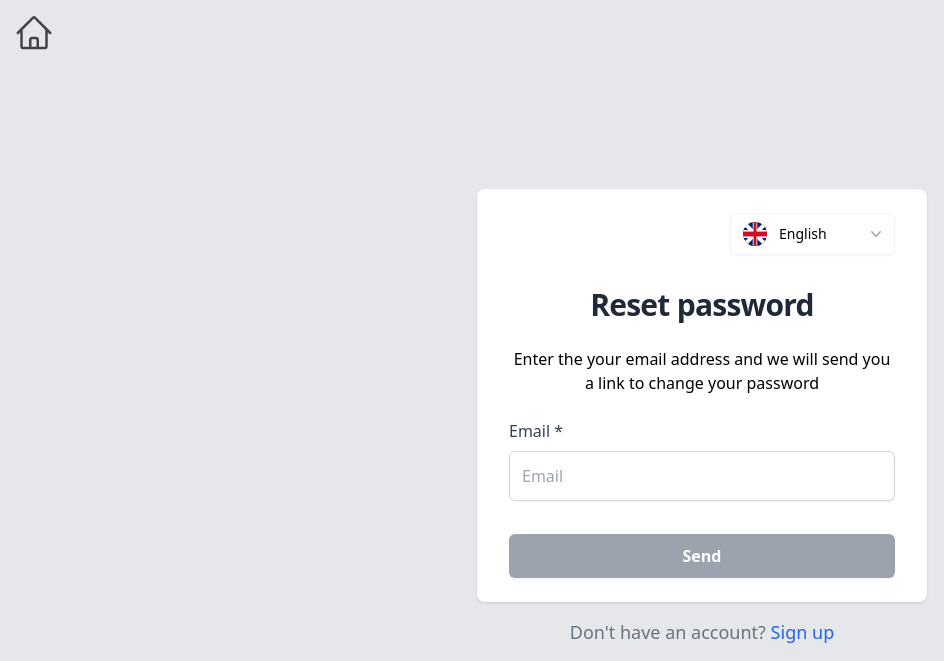
Test: Request password reset page › Should see validation messages when focus and blur email input. Also validation message should translate into Georgian
The width and height of the screenshot is (944, 661).
Focus the field with test id "email-input" at (702, 476), box x1=509 y1=451 x2=895 y2=501
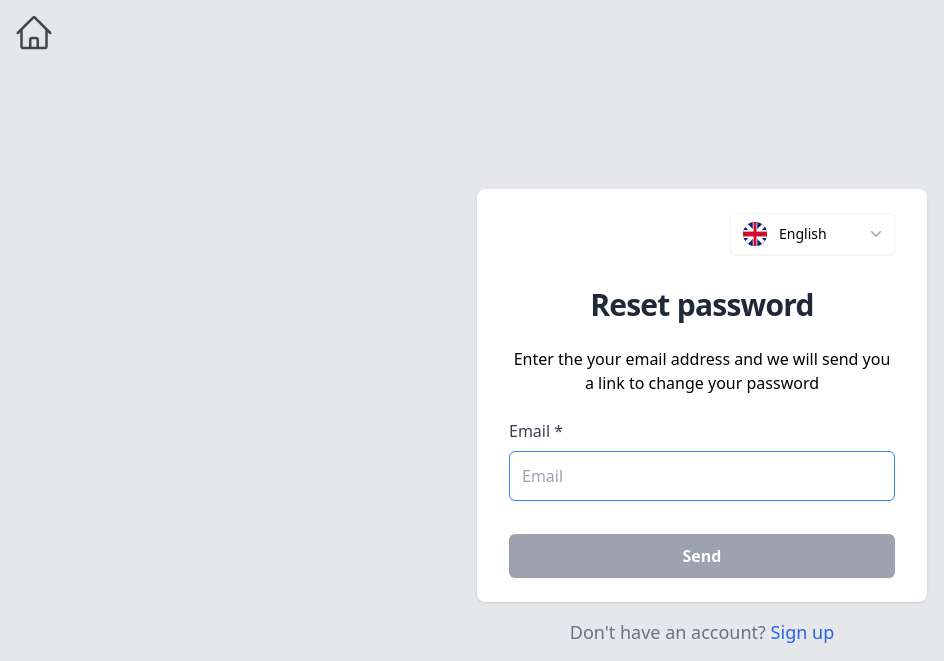
Leave the field with test id "email-input", box x1=509 y1=451 x2=895 y2=501
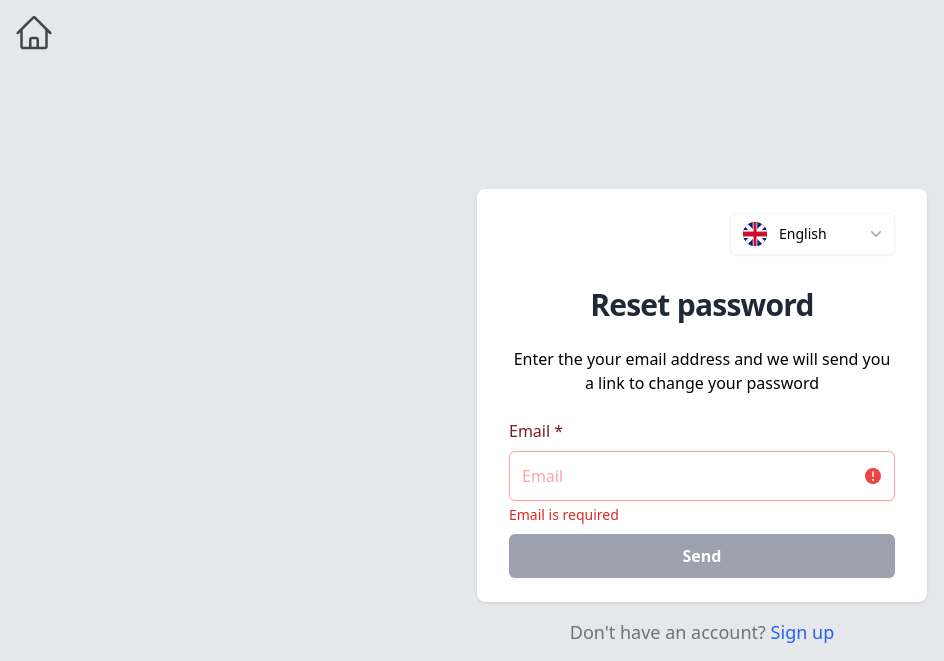
Expected: the text with test id "email-validation" reads "Email is required", x1=509 y1=505 x2=619 y2=524
Click the button with test id "language-selector" at (813, 234), box x1=730 y1=213 x2=895 y2=255
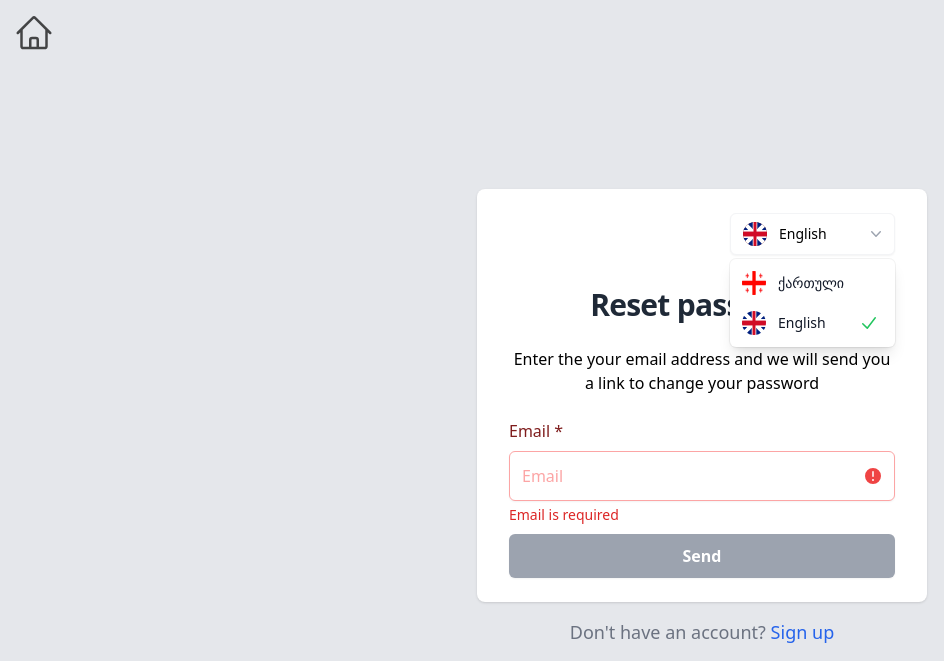
Click the option with test id "ka" at (793, 283), box x1=742 y1=271 x2=844 y2=295
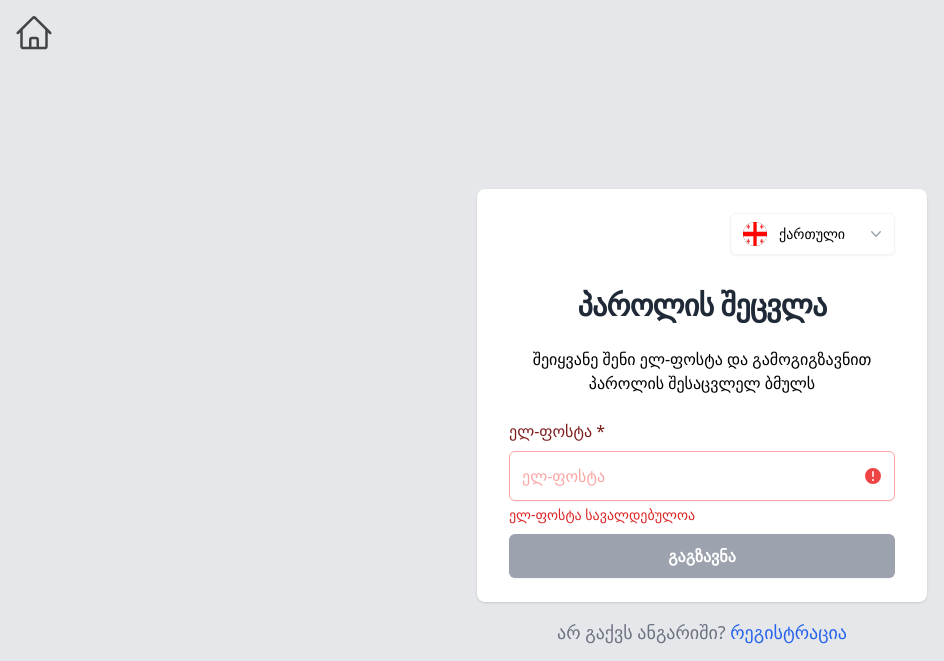
Expected: the text with test id "email-validation" reads "ელ-ფოსტა სავალდებულოა", x1=509 y1=505 x2=695 y2=524
